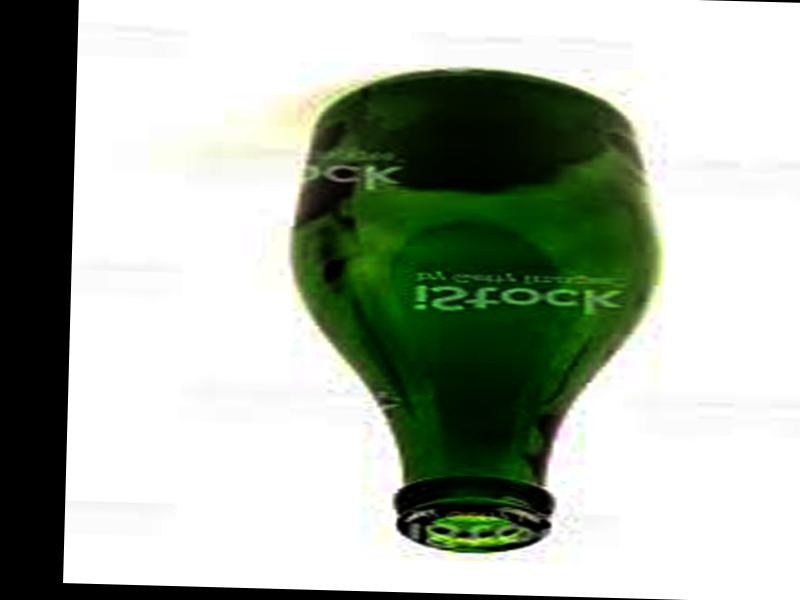Beer: (281, 64, 664, 559)
